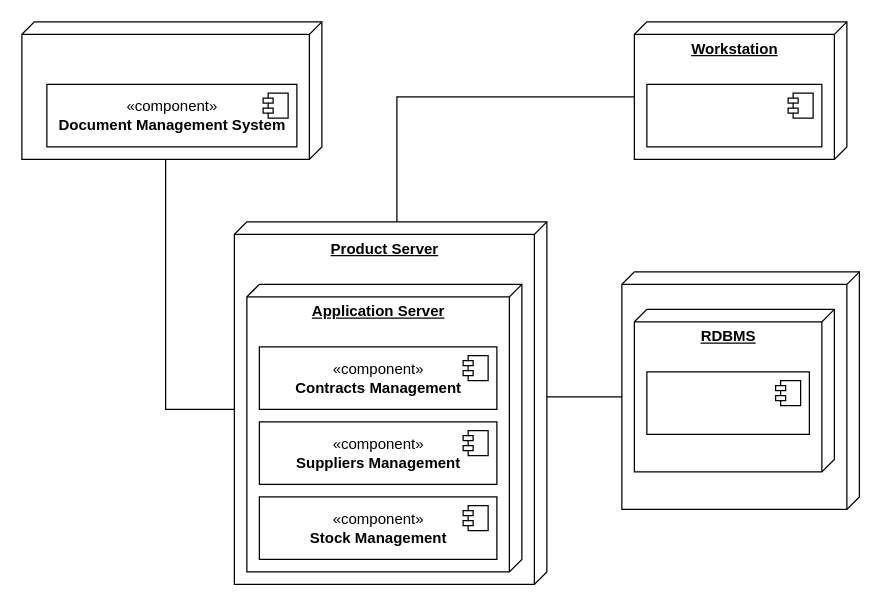
The diagram is 881 pixels wide and 606 high, and some of its shapes have lost their labels. Each missing label, with the box of its shape:
Database Server: (621, 271, 859, 509)
Document Server: (21, 21, 322, 159)
«component» Product Server UI: (646, 83, 822, 147)
«component» Supply Schema: (646, 371, 809, 434)
